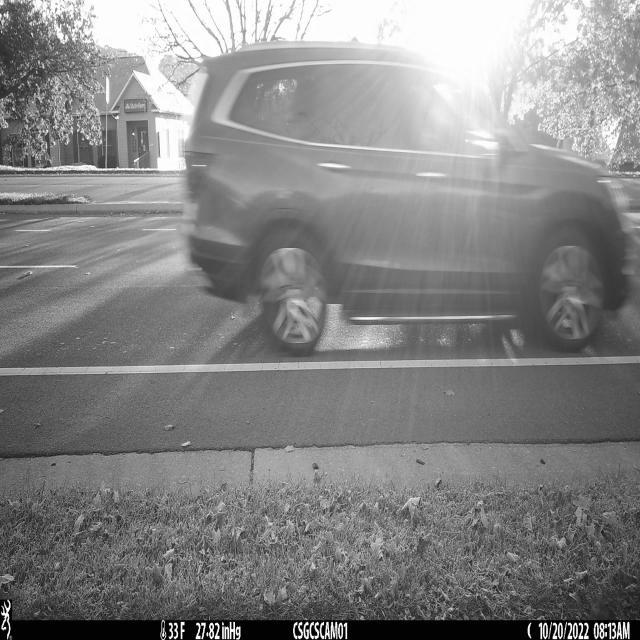SUV: (179, 42, 631, 353)
